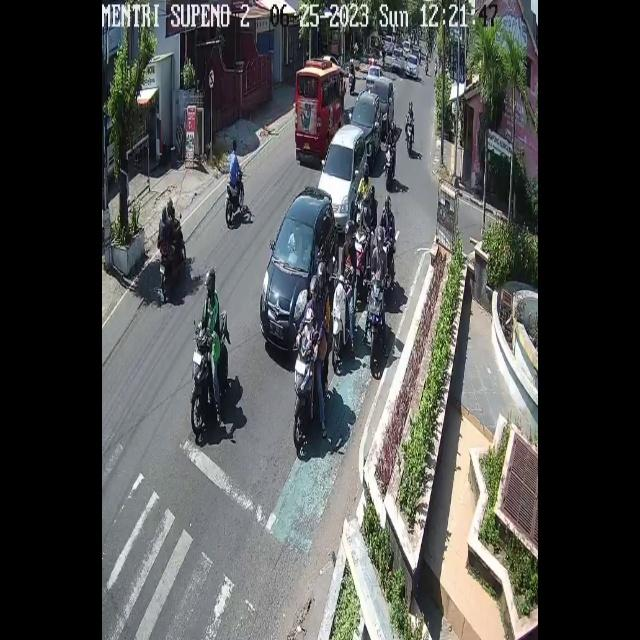bus: (190, 310, 228, 432), (293, 336, 315, 447), (160, 216, 187, 298), (332, 273, 351, 368), (366, 280, 384, 372), (225, 166, 246, 224), (354, 231, 367, 294), (384, 230, 394, 288), (384, 144, 395, 190), (406, 120, 414, 156), (355, 200, 364, 226), (348, 75, 354, 101)
car: (295, 56, 346, 164)
motorcycle: (260, 185, 339, 353), (318, 124, 368, 233), (350, 90, 380, 159), (371, 76, 395, 139), (366, 65, 385, 88), (389, 48, 404, 72), (406, 54, 419, 80)
